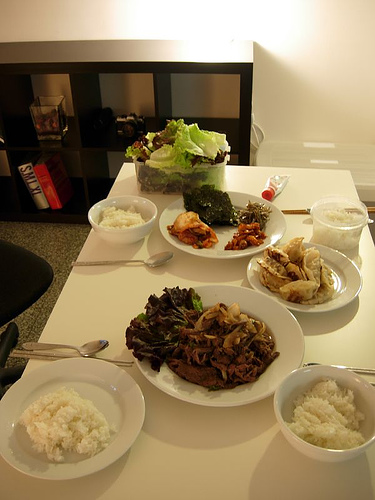bulgogi: (167, 308, 278, 387)
